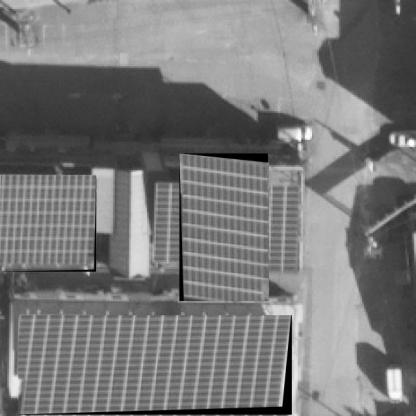solar-pv-panel: (18, 315, 291, 415), (183, 154, 268, 301), (0, 175, 96, 271)
